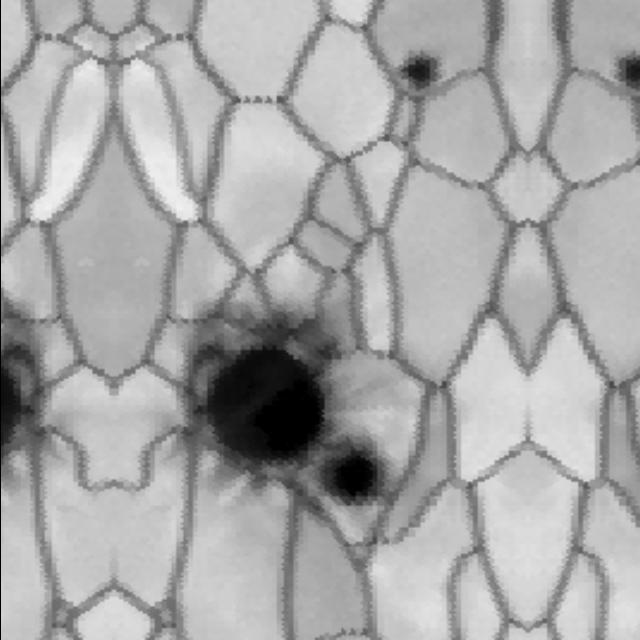good_void: (181, 294, 351, 495), (0, 295, 46, 476), (313, 427, 399, 520), (387, 44, 450, 94), (606, 44, 640, 94)
